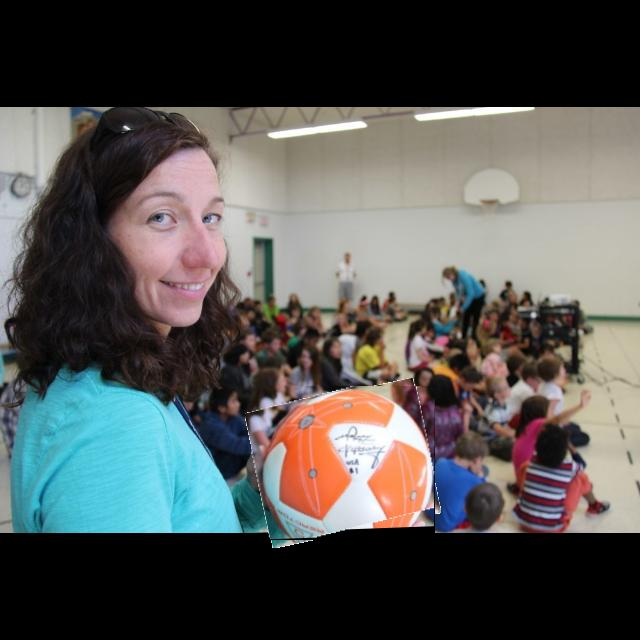Football: (251, 386, 435, 540)
